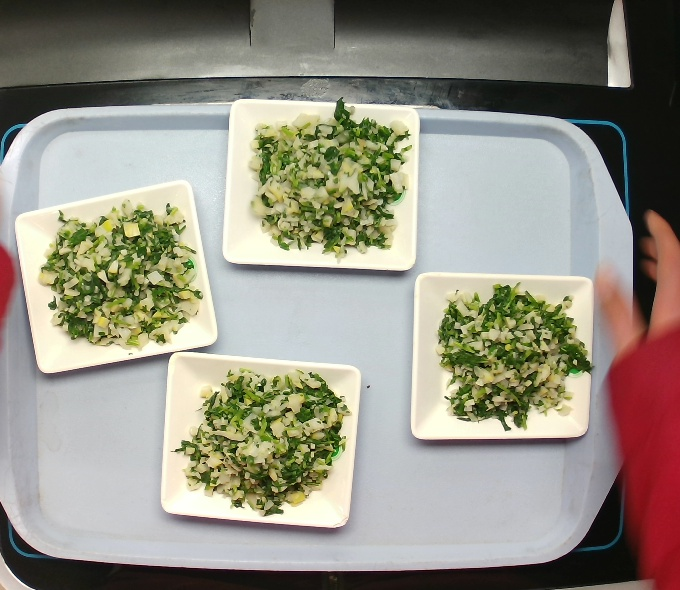wcq-MaLanTouBanChunSun: (21, 180, 220, 368), (236, 83, 422, 272), (169, 361, 358, 516), (425, 283, 588, 427)
